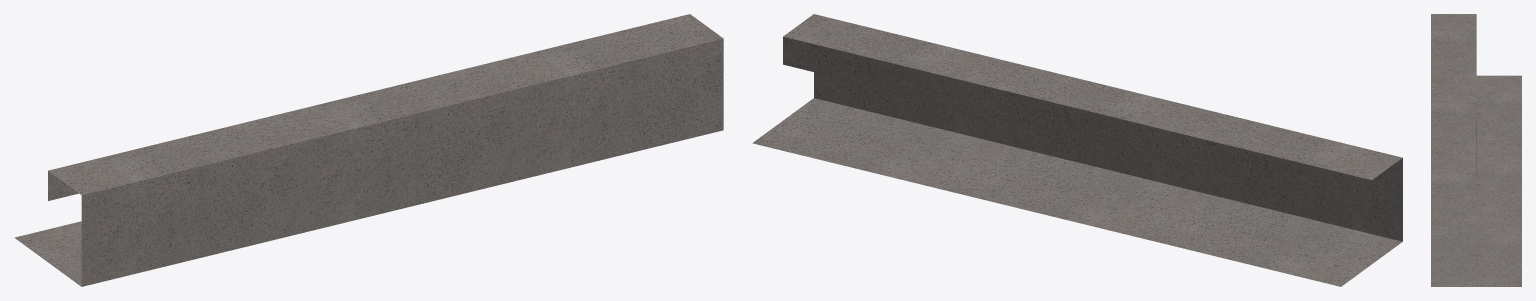
The model's file is window_002_017_16.gltf.
3 views of the same model, side by side, from view 1: azimuth 30°, elevation 25°; view 2: azimuth 150°, elevation 25°; view 3: azimuth 270°, elevation 25° (orthographic). The views are drawn at different scales.
Visible parts, largest first — view 1: Window_002.017_16; view 2: Window_002.017_16; view 3: Window_002.017_16.
Part boxes in pixels (x1,y1,x2,y2): Window_002.017_16: (14, 14, 723, 286); Window_002.017_16: (752, 14, 1402, 286); Window_002.017_16: (1431, 14, 1521, 286).
Bounding box in the file's own units: 2.2 × 0.3 × 0.4.
Materials: 1 (1 with a texture image).
